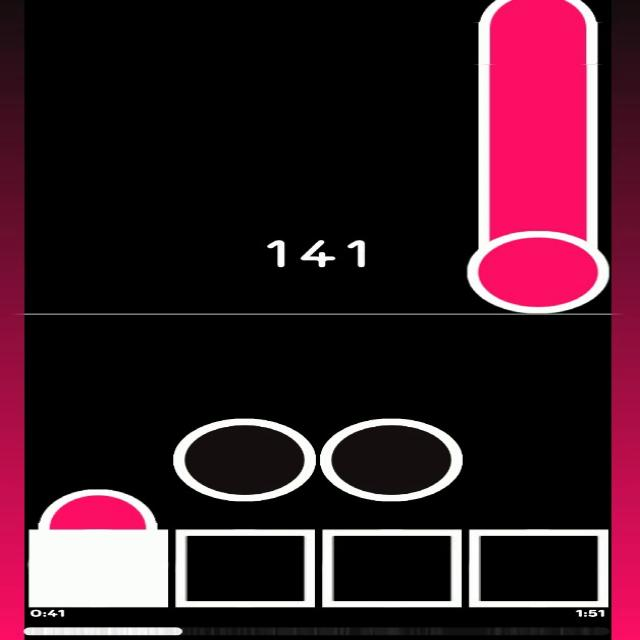end_hold: (38, 483, 158, 527), (471, 0, 604, 37)
note: (174, 414, 318, 499), (321, 416, 461, 501)
start_hold: (469, 215, 609, 312)
